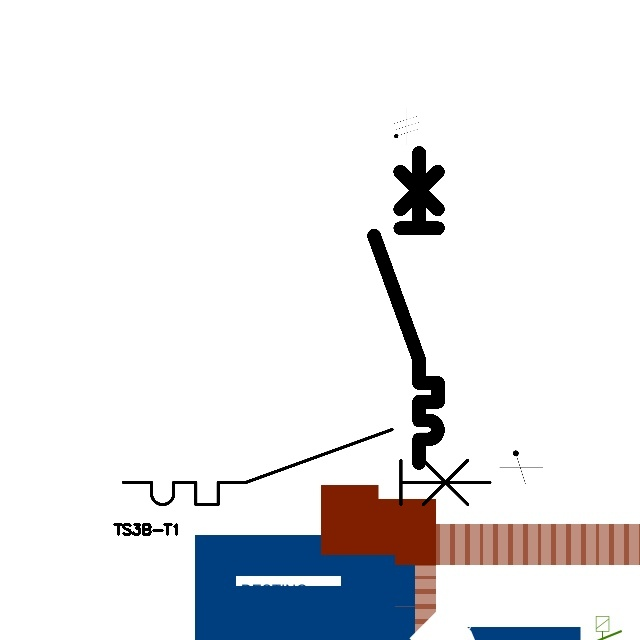interruptor_termomagnetico: (114, 420, 499, 514), (366, 144, 446, 470)
